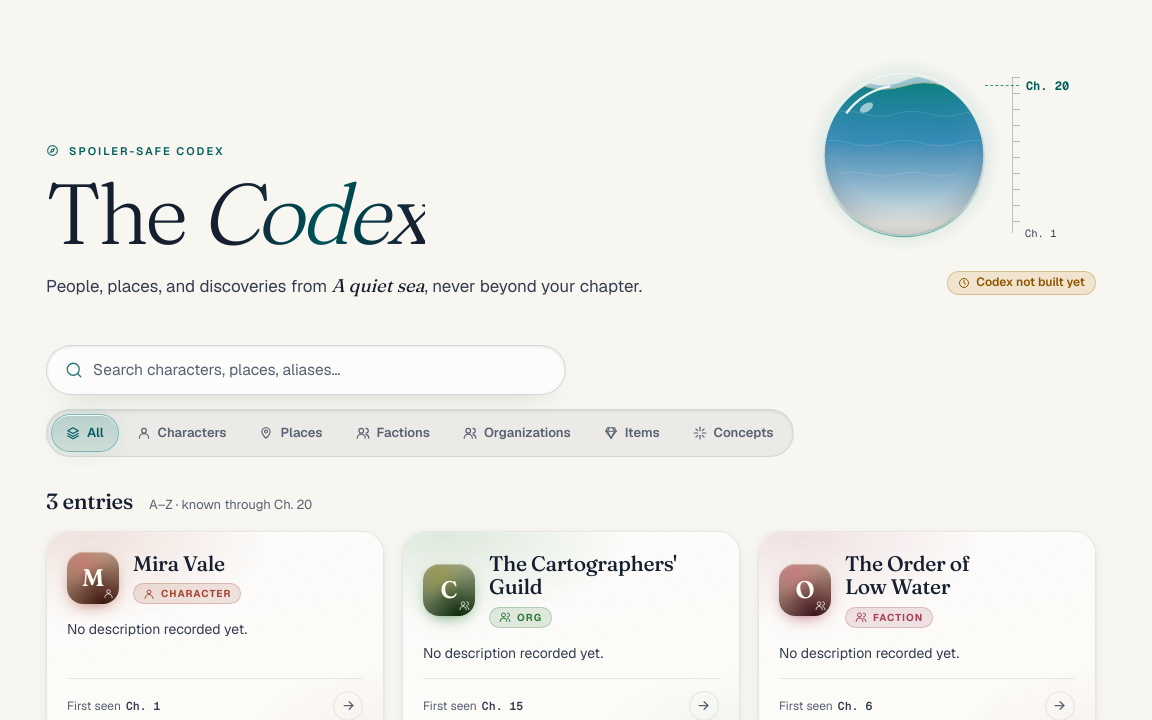
Scenario: codex browser filters › offers Organizations only when the book has some, and filters by it
The width and height of the screenshot is (1152, 720).
Check: the heading "The Cartographers' Guild" is shown, box [489,550,676,599]
Click the button "Organizations". click: click(517, 432)
box: [448,414,586,452]
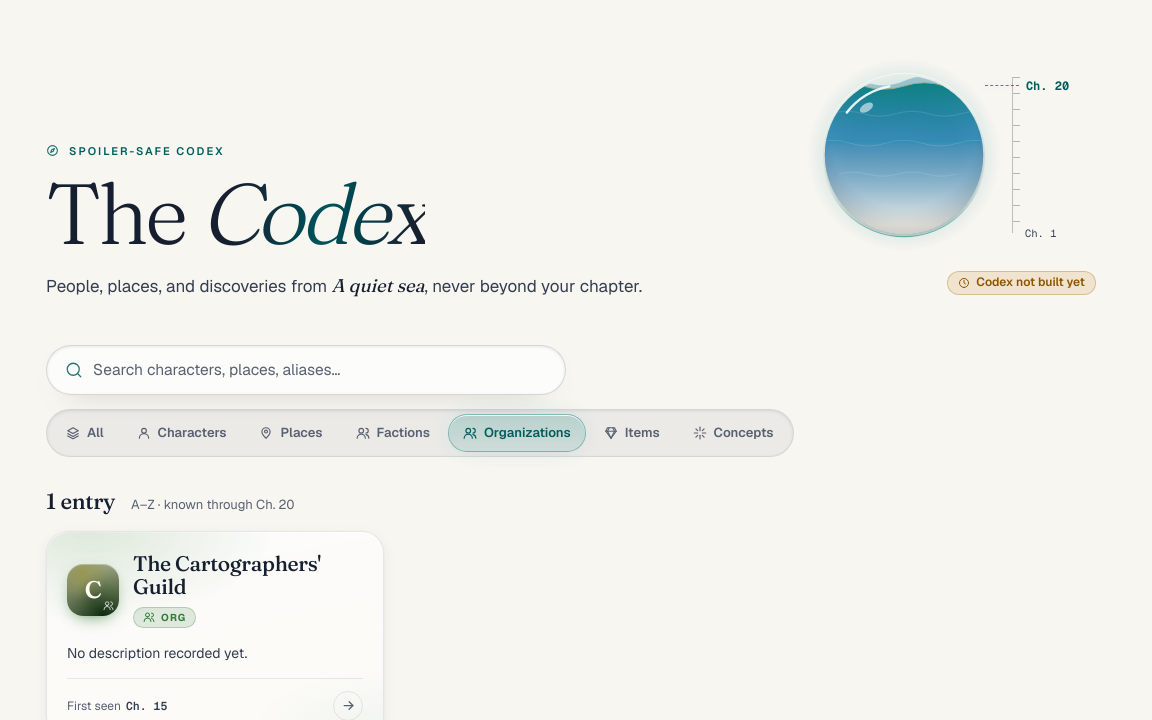
Check: the heading "The Cartographers' Guild" is shown, box [133,550,321,599]
Check: the link "Mira Vale" is gone
